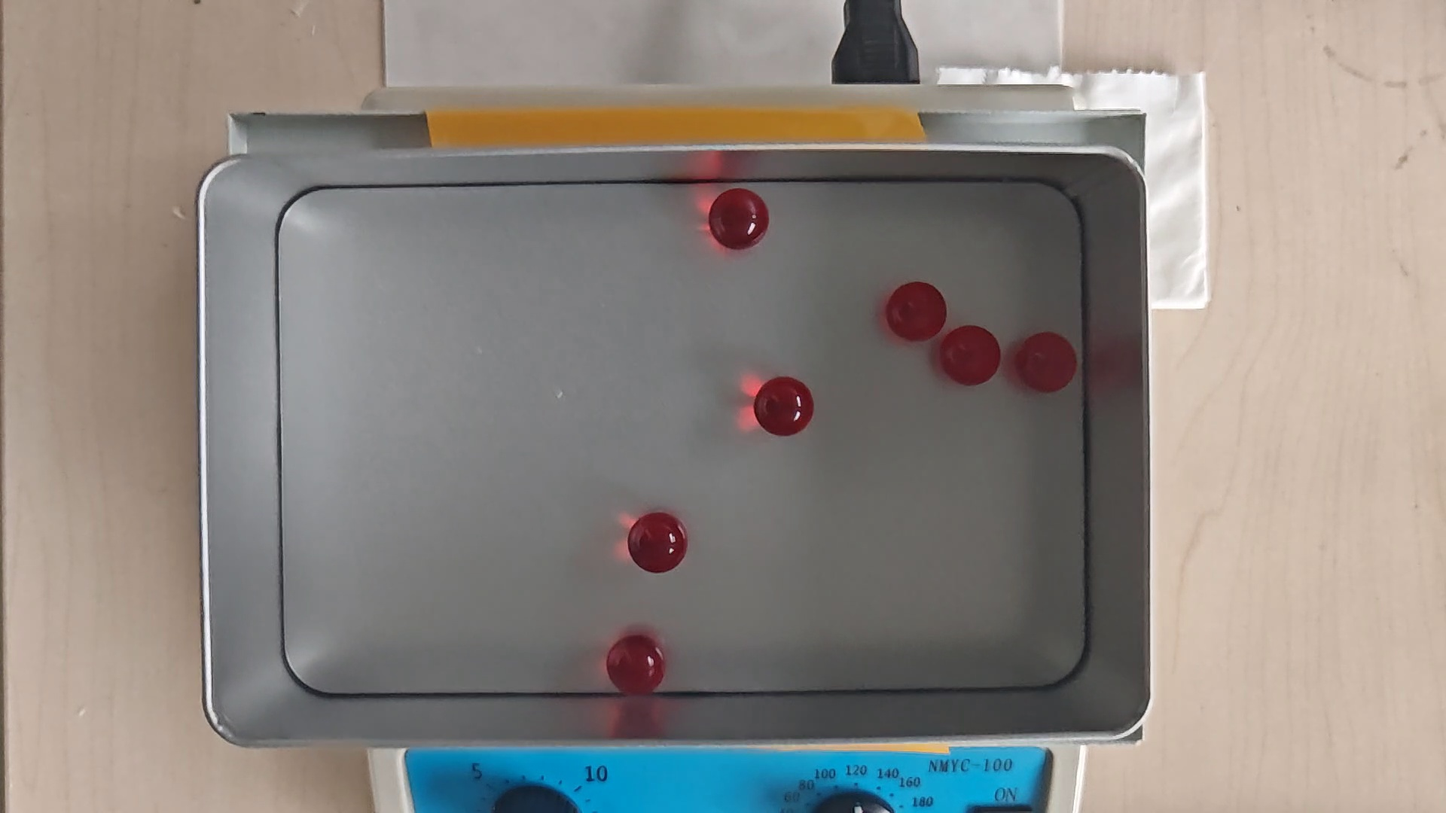ball: (707, 185, 770, 246), (886, 281, 946, 343), (1017, 334, 1078, 394), (629, 512, 688, 574), (609, 635, 665, 699), (943, 324, 999, 387), (757, 374, 813, 437)
container: (273, 181, 1088, 696)
